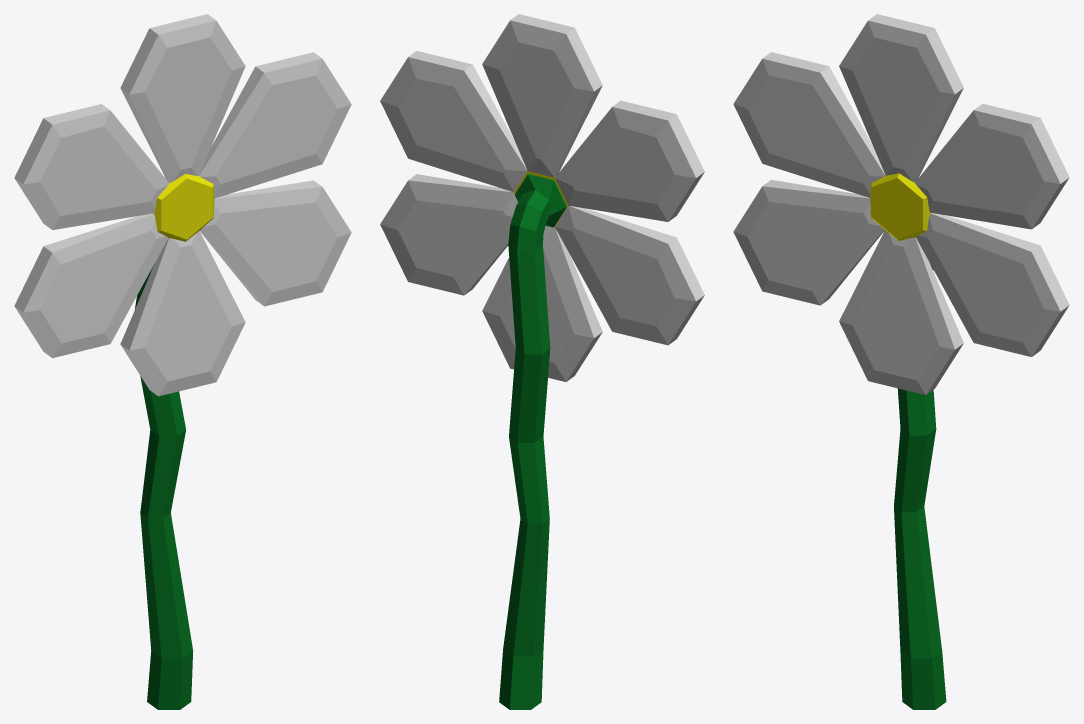
File: Flower1.fbx
3 views of the same model, side by side, from view 1: azimuth 30°, elevation 25°; view 2: azimuth 150°, elevation 25°; view 3: azimuth 330°, elevation 25° (orthographic). The views are drawn at different scales.
Visible parts, largest first — view 1: Petal5, Petal2, Petal1, Petal4, Petal6, Petal3, Stalk, Head; view 2: Stalk, Petal5, Petal2, Petal1, Petal6, Petal3, Petal4; view 3: Petal3, Petal6, Petal1, Petal4, Petal2, Petal5, Stalk, Head.
Boxes of the visible parts, bbox=[...] form: Petal5: bbox=[14, 213, 168, 358]; Petal2: bbox=[199, 52, 351, 198]; Petal1: bbox=[120, 14, 245, 182]; Petal4: bbox=[120, 231, 245, 396]; Petal6: bbox=[14, 104, 169, 229]; Petal3: bbox=[200, 180, 351, 306]; Stalk: bbox=[135, 264, 193, 709]; Head: bbox=[153, 174, 214, 241]; Stalk: bbox=[499, 174, 566, 709]; Petal5: bbox=[555, 206, 704, 345]; Petal2: bbox=[380, 51, 527, 191]; Petal1: bbox=[482, 14, 602, 177]; Petal6: bbox=[555, 100, 704, 221]; Petal3: bbox=[380, 174, 517, 295]; Petal4: bbox=[482, 225, 602, 381]; Petal3: bbox=[916, 213, 1069, 356]; Petal6: bbox=[733, 52, 885, 197]; Petal1: bbox=[839, 14, 963, 182]; Petal4: bbox=[839, 230, 963, 394]; Petal2: bbox=[915, 103, 1069, 229]; Petal5: bbox=[733, 180, 884, 305]; Stalk: bbox=[894, 264, 946, 709]; Head: bbox=[870, 173, 930, 240].
Bounding box in the file's own units: 705 × 1420 × 136.
